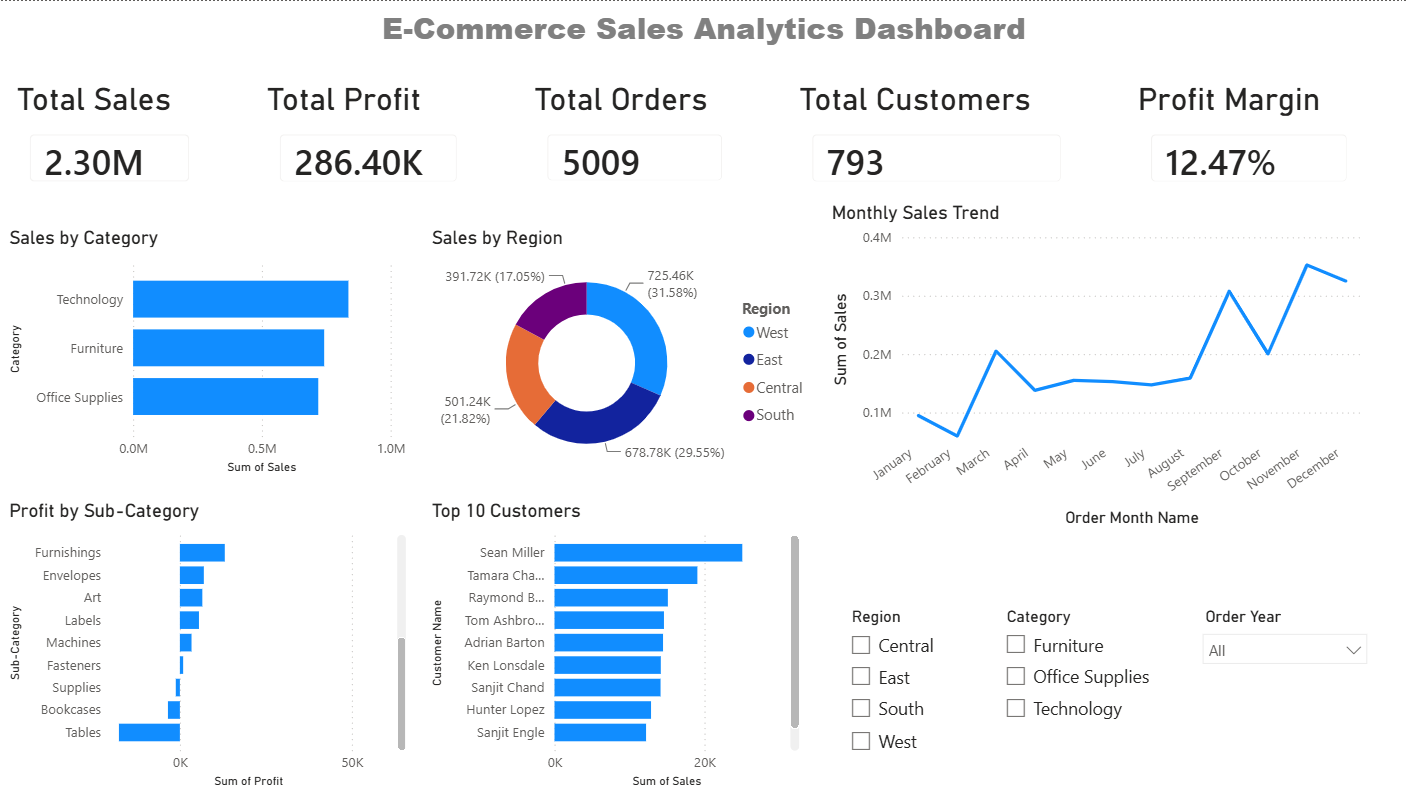

The page's visual inventory and layout, read from the dashboard file:
{"tool":"powerbi","page":{"name":"Page 1","canvas":[1280,720],"ordinal":0},"visuals":[{"type":"cardVisual","title":"Total Sales","fields":{"Data":["Sum(superstore_cleaned.Sales)"]},"box":[9.8,72.1,179.8,110.1],"z":0},{"type":"textbox","box":[10,372,428,348],"z":1000},{"type":"cardVisual","title":"Total Profit","fields":{"Data":["Sum(superstore_cleaned.Profit)"]},"box":[237.2,72.1,195.7,110.1],"z":2000},{"type":"cardVisual","title":"Total Orders","fields":{"Data":["superstore_cleaned.Total Orders"]},"box":[480.6,72.1,193.2,108.8],"z":3000},{"type":"cardVisual","title":"Total Customers","fields":{"Data":["superstore_cleaned.Total Customers"]},"box":[721.5,72.1,260.5,110.1],"z":4000},{"type":"clusteredBarChart","title":"Sales by Category","fields":{"Category":["superstore_cleaned.Category"],"Y":["Sum(superstore_cleaned.Sales)"]},"box":[3.8,205.1,370.9,230.4],"z":5000},{"type":"clusteredBarChart","title":"Profit by Sub-Category","fields":{"Category":["superstore_cleaned.Sub-Category"],"Y":["Sum(superstore_cleaned.Profit)"]},"box":[3.8,453.2,370.9,267.1],"z":6000},{"type":"lineChart","title":"Monthly Sales Trend","fields":{"Category":["superstore_cleaned.Order Month Name"],"Y":["Sum(superstore_cleaned.Sales)"]},"box":[750.8,182.2,491.6,300.8],"z":7000},{"type":"donutChart","title":"Sales by Region","fields":{"Category":["superstore_cleaned.Region"],"Y":["Sum(superstore_cleaned.Sales)"]},"box":[387.3,205.1,357,230.4],"z":8000},{"type":"clusteredBarChart","title":"Top 10 Customers","fields":{"Category":["superstore_cleaned.Customer Name"],"Y":["Sum(superstore_cleaned.Sales)"]},"box":[387.3,453.2,344.3,267.1],"z":9000},{"type":"slicer","fields":{"Values":["superstore_cleaned.Region"]},"box":[761.8,546.6,140.6,144.3],"z":10000},{"type":"slicer","fields":{"Values":["superstore_cleaned.Category"]},"box":[902.5,546.6,155.3,144.3],"z":11000},{"type":"slicer","fields":{"Values":["superstore_cleaned.Order Year"]},"box":[1083.4,546.6,170,144.3],"z":12000},{"type":"textbox","box":[0.1,0,1279.7,55.7],"z":13000},{"type":"cardVisual","title":"Profit Margin","fields":{"Data":["superstore_cleaned.Profit Margin"]},"box":[1029.6,72.1,212.8,110.1],"z":14000}]}

Visuals, with their boxes in screenshot pixels (x1, y1, x2, y2), scaled from the page's 1280x720 canvas onto the 1407x792 screenshot:
"Total Sales" cardVisual: (11,79,208,200)
textbox: (11,409,481,791)
"Total Profit" cardVisual: (261,79,476,200)
"Total Orders" cardVisual: (528,79,741,199)
"Total Customers" cardVisual: (793,79,1079,200)
"Sales by Category" clusteredBarChart: (4,226,412,479)
"Profit by Sub-Category" clusteredBarChart: (4,499,412,791)
"Monthly Sales Trend" lineChart: (825,200,1366,531)
"Sales by Region" donutChart: (426,226,818,479)
"Top 10 Customers" clusteredBarChart: (426,499,804,791)
slicer - superstore_cleaned.Region: (837,601,992,760)
slicer - superstore_cleaned.Category: (992,601,1163,760)
slicer - superstore_cleaned.Order Year: (1191,601,1378,760)
textbox: (0,0,1406,61)
"Profit Margin" cardVisual: (1132,79,1366,200)
